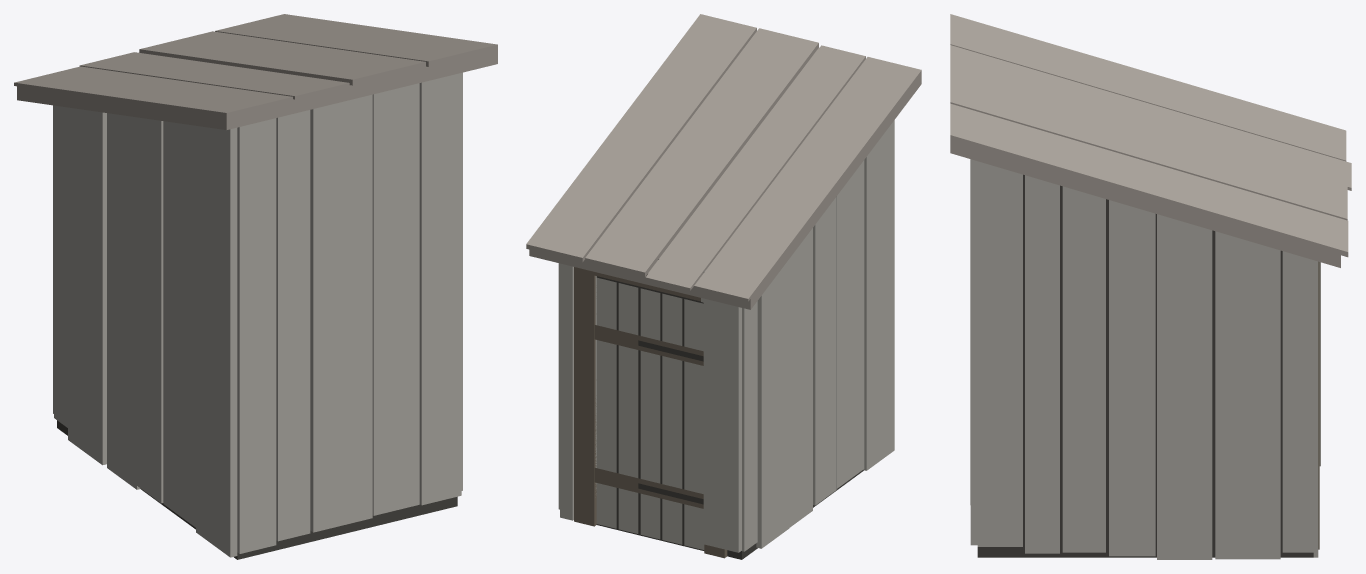
The model's file is recon_1835_blk_south_water_clark_a3_05__inferred_1835.glb.
3 views of the same model, side by side, from view 1: azimuth 30°, elevation 25°; view 2: azimuth 150°, elevation 25°; view 3: azimuth 270°, elevation 25° (orthographic). The views are drawn at different scales.
Parts seen in each view (by area): view 1: recon_1835_blk_south_water_clark_a3_05__inferred_1835; view 2: recon_1835_blk_south_water_clark_a3_05__inferred_1835; view 3: recon_1835_blk_south_water_clark_a3_05__inferred_1835.
Part boxes in pixels (x1=…): recon_1835_blk_south_water_clark_a3_05__inferred_1835: x1=14, y1=14, x2=497, y2=559; recon_1835_blk_south_water_clark_a3_05__inferred_1835: x1=526, y1=14, x2=921, y2=559; recon_1835_blk_south_water_clark_a3_05__inferred_1835: x1=950, y1=14, x2=1351, y2=559.
Size of the model in its own units: 1.73 by 2.85 by 2.39.
